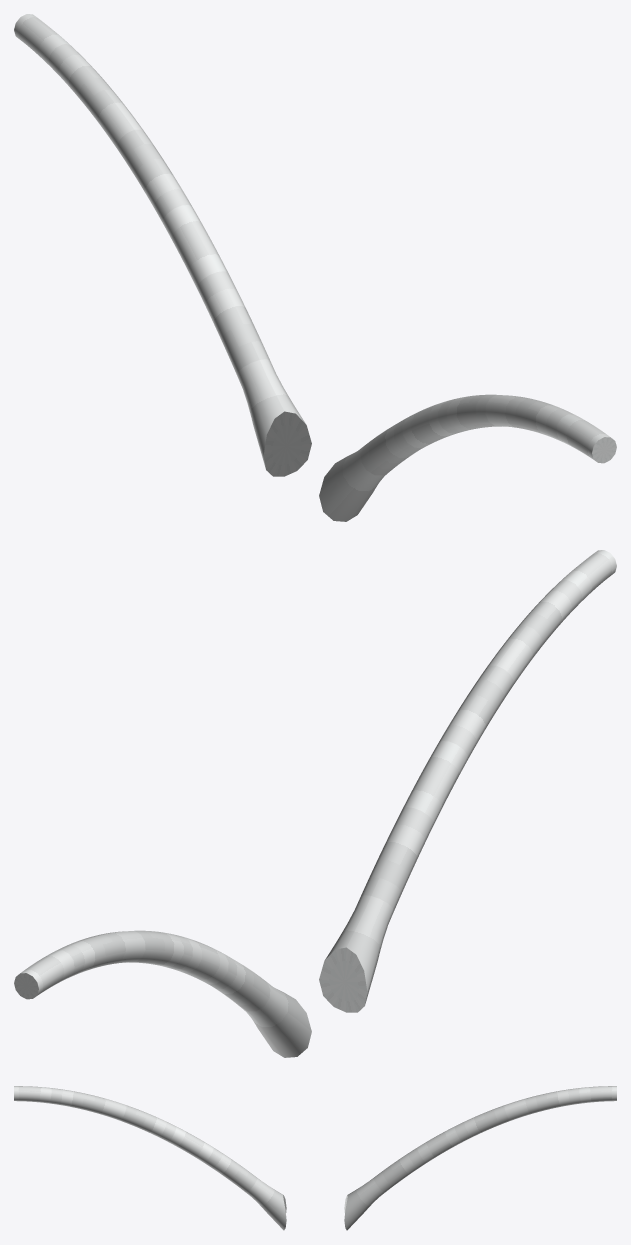
File: luminairearm_caltrans8ftdouble_inv.obj
3 renders of one model, top to bottom at view 1: azimuth 30°, elevation 25°; view 2: azimuth 150°, elevation 25°; view 3: azimuth 270°, elevation 25°, orthographic. The views are drawn at different scales.
Parts seen in each view (by area): view 1: luminairearm_caltrans8ftdouble_inv; view 2: luminairearm_caltrans8ftdouble_inv; view 3: luminairearm_caltrans8ftdouble_inv.
Boxes of the visible parts, x1,y1,x2,y2 form: luminairearm_caltrans8ftdouble_inv: [14, 14, 616, 521]; luminairearm_caltrans8ftdouble_inv: [14, 550, 616, 1057]; luminairearm_caltrans8ftdouble_inv: [14, 1086, 616, 1230].
Size of the model in its own units: 0.0482 by 0.2613 by 1.
